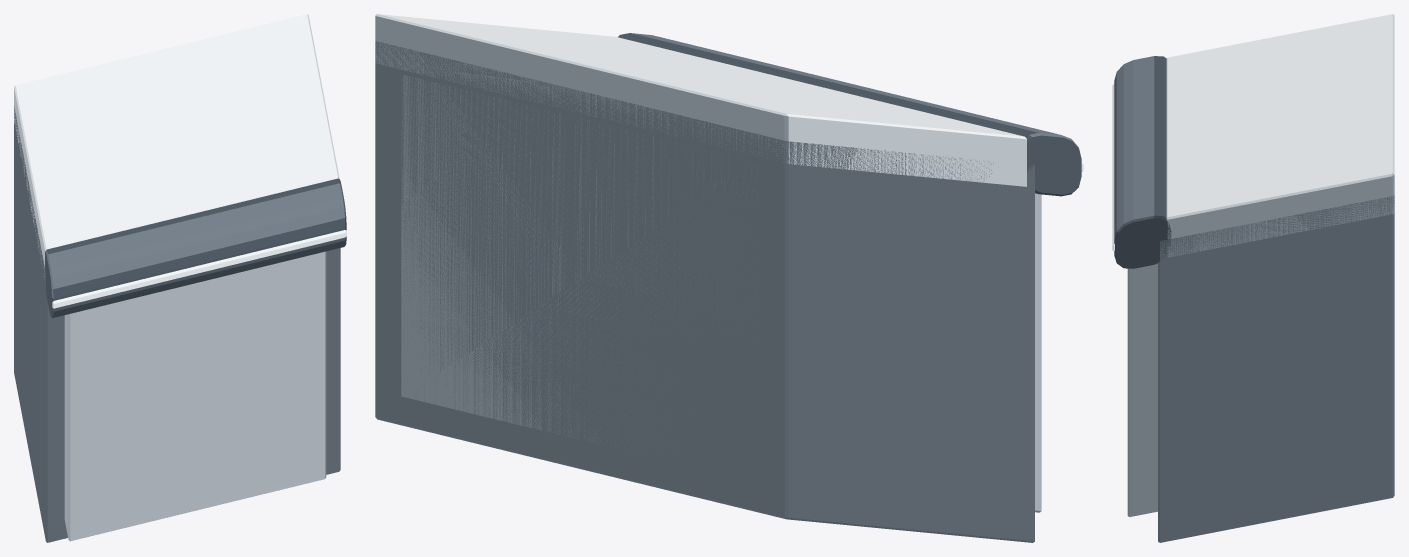
The model's file is Terrain_TopRun1.gltf.
3 renders of one model, left to right at view 1: azimuth 30°, elevation 25°; view 2: azimuth 150°, elevation 25°; view 3: azimuth 270°, elevation 25°, orthographic. The views are drawn at different scales.
Parts seen in each view (by area): view 1: Terrain_TopRun1_baked; view 2: Terrain_TopRun1_baked; view 3: Terrain_TopRun1_baked.
Part boxes in pixels (x1,y1,x2,y2): Terrain_TopRun1_baked: [14, 14, 346, 542]; Terrain_TopRun1_baked: [375, 14, 1083, 542]; Terrain_TopRun1_baked: [1112, 14, 1394, 542].
Bounding box in the file's own units: 1.29 × 1.18 × 0.74.
